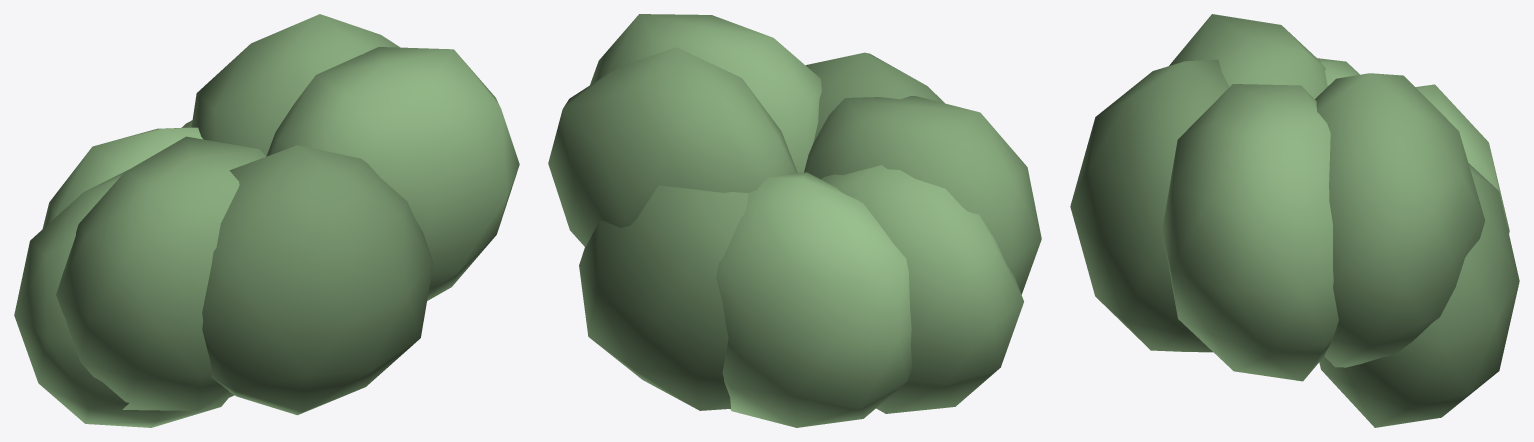
File: env_shrub_round_c_v001.glb
The picture shows the model from 3 angles, left to right: view 1: azimuth 30°, elevation 25°; view 2: azimuth 150°, elevation 25°; view 3: azimuth 270°, elevation 25°; orthographic projection. The views are drawn at different scales.
Visible parts, largest first — view 1: env_shrub_round_c_LOD0_mesh; view 2: env_shrub_round_c_LOD0_mesh; view 3: env_shrub_round_c_LOD0_mesh.
Boxes of the visible parts, bbox=[...] form: env_shrub_round_c_LOD0_mesh: bbox=[14, 14, 519, 427]; env_shrub_round_c_LOD0_mesh: bbox=[548, 14, 1041, 427]; env_shrub_round_c_LOD0_mesh: bbox=[1070, 14, 1519, 427].
Size of the model in its own units: 1.5 by 1.1 by 1.2.
